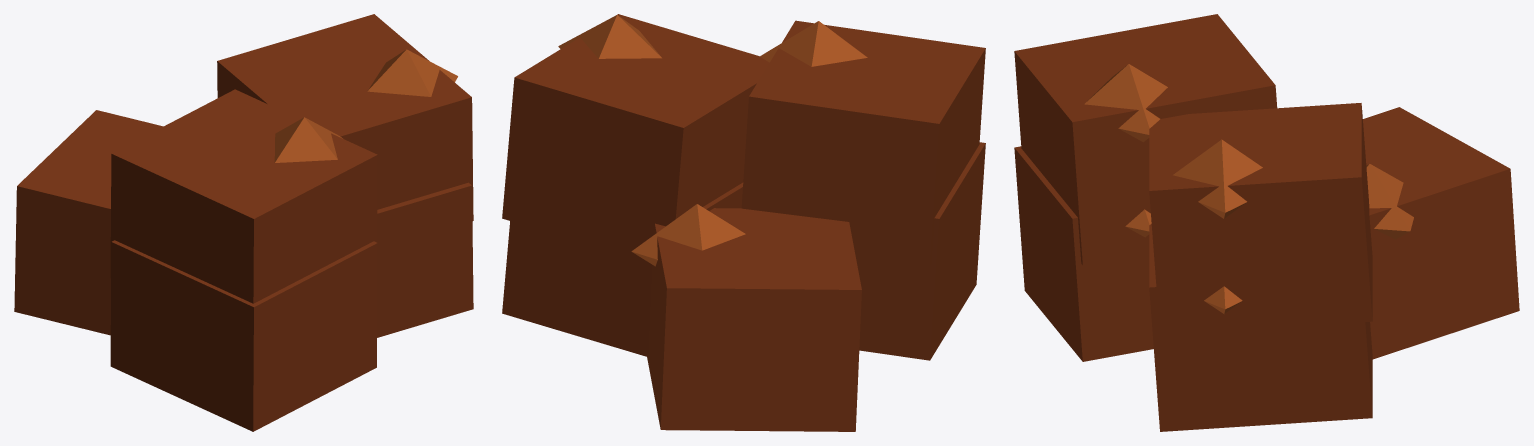
The model's file is pile-soil-5.obj.
3 renders of one model, left to right at view 1: azimuth 30°, elevation 25°; view 2: azimuth 150°, elevation 25°; view 3: azimuth 270°, elevation 25°, orthographic. The views are drawn at different scales.
Visible parts, largest first — view 1: pile-soil-5; view 2: pile-soil-5; view 3: pile-soil-5.
Part boxes in pixels (x1,y1,x2,y2): pile-soil-5: (14,14,473,431); pile-soil-5: (502,14,985,431); pile-soil-5: (1014,14,1519,431).
Size of the model in its own units: 0.6436 by 0.4374 by 0.7118.
Materials: 1 (1 with a texture image).
